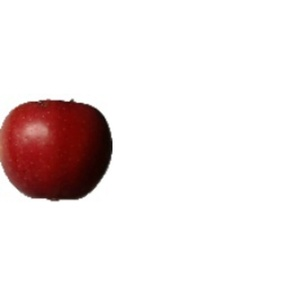maçã braeburn: (1, 97, 116, 201)
